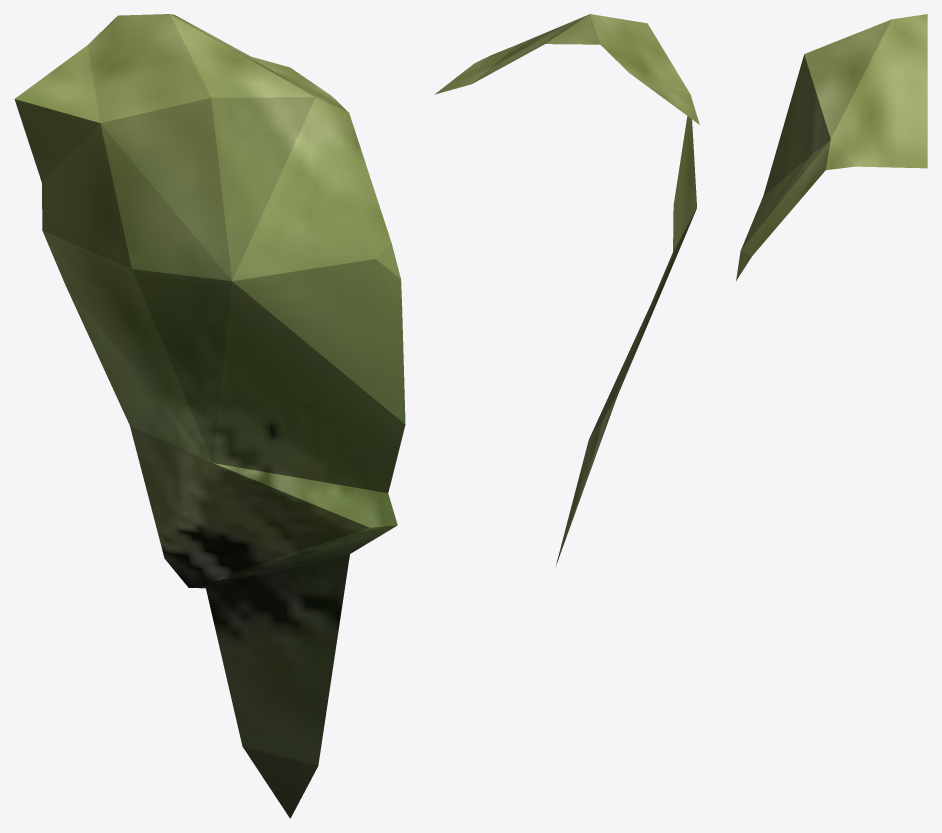
3 renders of one model, left to right at view 1: azimuth 30°, elevation 25°; view 2: azimuth 150°, elevation 25°; view 3: azimuth 270°, elevation 25°, orthographic. The views are drawn at different scales.
Size of the model in its own units: 0.3212 by 0.951 by 0.2323.
1 material, 1 textured.
